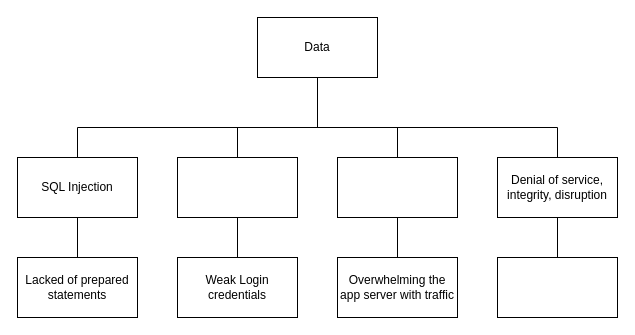
The diagram is 635 pixels wide and 335 high, and some of its shapes have lost their labels. The box of each missing label's shape, as (x1, y1, x2, y2) in pixels:
Broken API Token: (496, 256, 618, 318)
Denial of service (overload): (336, 156, 458, 218)
Session Hijacking: (176, 156, 298, 218)
